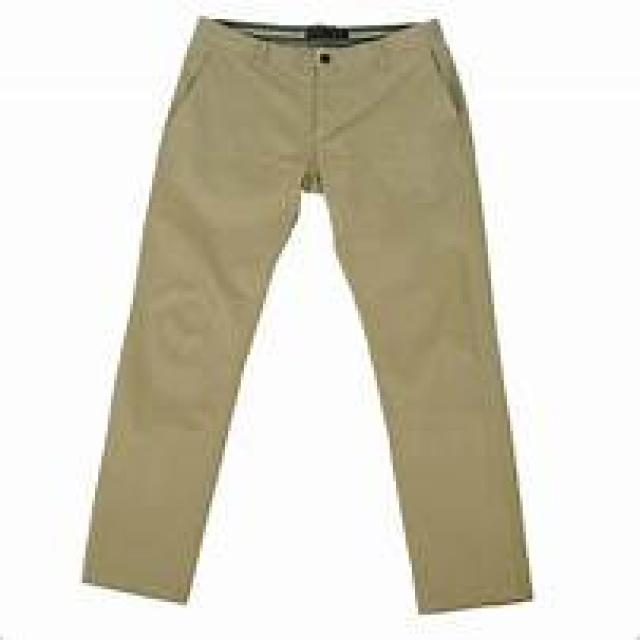long-pants: (79, 12, 540, 617)
